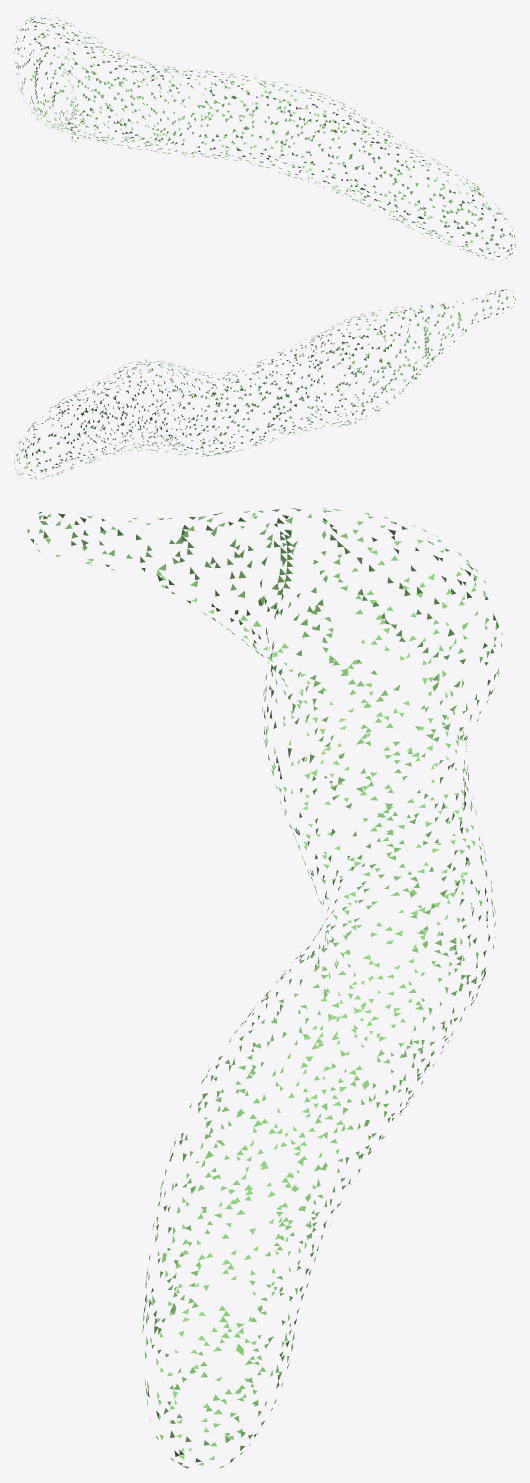
Rendered from morph_015.glb.
3 views of the same model, one above another, from view 1: azimuth 30°, elevation 25°; view 2: azimuth 150°, elevation 25°; view 3: azimuth 270°, elevation 25° (orthographic). The views are drawn at different scales.
Bounding box in the file's own units: 101 × 60.3 × 45.27.
